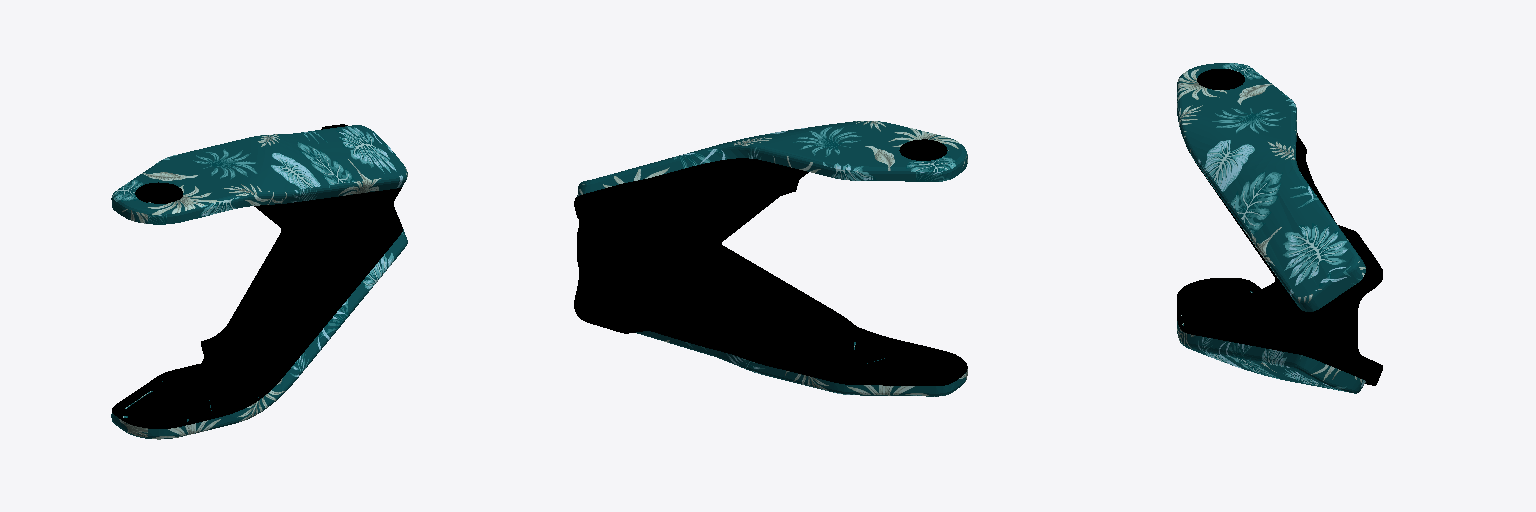
The picture shows the model from 3 angles: view 1: azimuth 30°, elevation 25°; view 2: azimuth 150°, elevation 25°; view 3: azimuth 270°, elevation 25°; orthographic projection.
Visible parts, largest first — view 1: arm0.link_fngr; view 2: arm0.link_fngr; view 3: arm0.link_fngr.
Part boxes in pixels (x1,y1,x2,y2): arm0.link_fngr: (111,124,407,439); arm0.link_fngr: (574,121,967,396); arm0.link_fngr: (1177,63,1382,393).
Size of the model in its own units: 0.1415 by 0.097 by 0.0771.
2 materials, 1 textured.